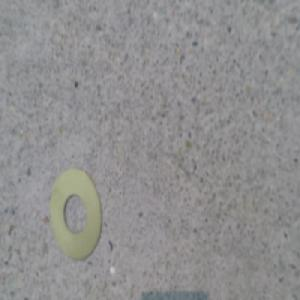Washer: (49, 169, 102, 260)
